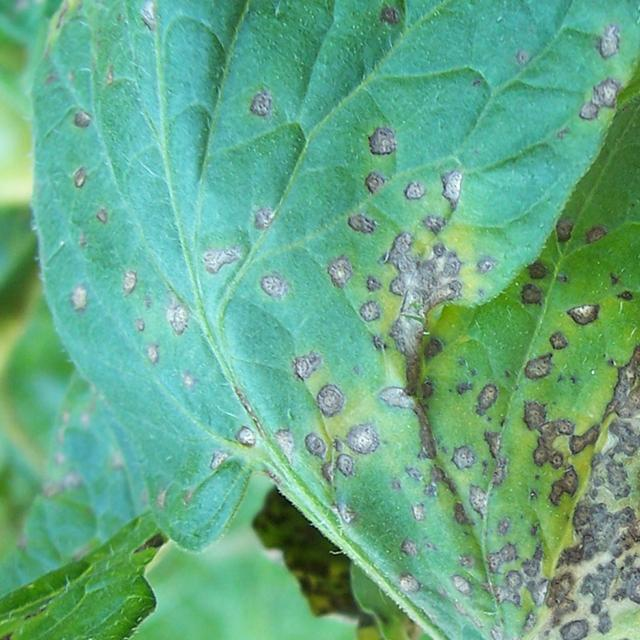Tomato Septoria leaf spot: (36, 0, 640, 640), (621, 320, 640, 640)
